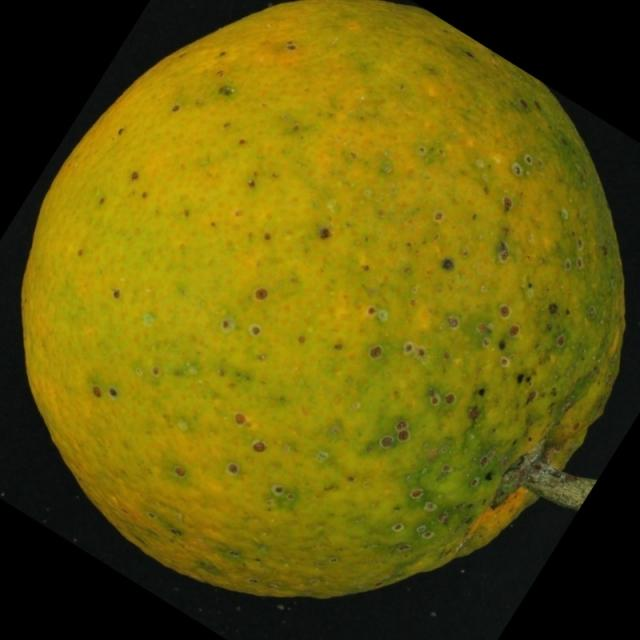grenning: (14, 2, 633, 612)
